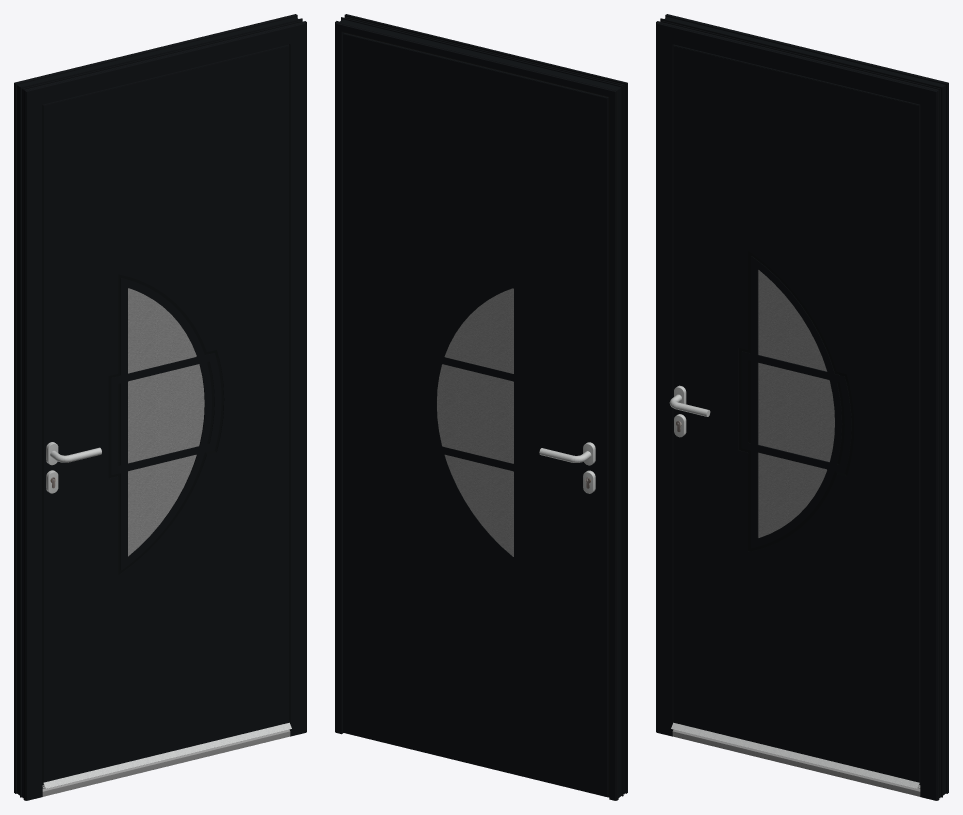
3 renders of one model, left to right at view 1: azimuth 30°, elevation 25°; view 2: azimuth 150°, elevation 25°; view 3: azimuth 330°, elevation 25°, orthographic.
Parts seen in each view (by area): view 1: bloco_71, aroFixo, Plane001, aroMovel, rodapé, escovas, puxador001; view 2: bloco_71, aroFixo, Plane002, aroMovel, puxador; view 3: bloco_71, aroFixo, Plane001, aroMovel, rodapé, escovas, puxador001.
Boxes of the visible parts, left/top/right/bottom form: bloco_71: left=44, top=46, right=289, bottom=782; aroFixo: left=14, top=14, right=306, bottom=800; Plane001: left=128, top=288, right=204, bottom=556; aroMovel: left=42, top=44, right=289, bottom=784; rodapé: left=42, top=729, right=290, bottom=796; escovas: left=42, top=722, right=291, bottom=788; puxador001: left=46, top=442, right=101, bottom=493; bloco_71: left=343, top=34, right=607, bottom=796; aroFixo: left=335, top=14, right=627, bottom=800; Plane002: left=437, top=288, right=513, bottom=556; aroMovel: left=343, top=32, right=609, bottom=796; puxador: left=539, top=442, right=595, bottom=493; bloco_71: left=673, top=46, right=919, bottom=782; aroFixo: left=656, top=14, right=948, bottom=800; Plane001: left=758, top=270, right=834, bottom=537; aroMovel: left=673, top=44, right=920, bottom=784; rodapé: left=672, top=729, right=920, bottom=796; escovas: left=671, top=722, right=920, bottom=788; puxador001: left=669, top=385, right=710, bottom=437.
Bounding box in the file's own units: 900 × 2165 × 209.
8 materials, 3 textured.
